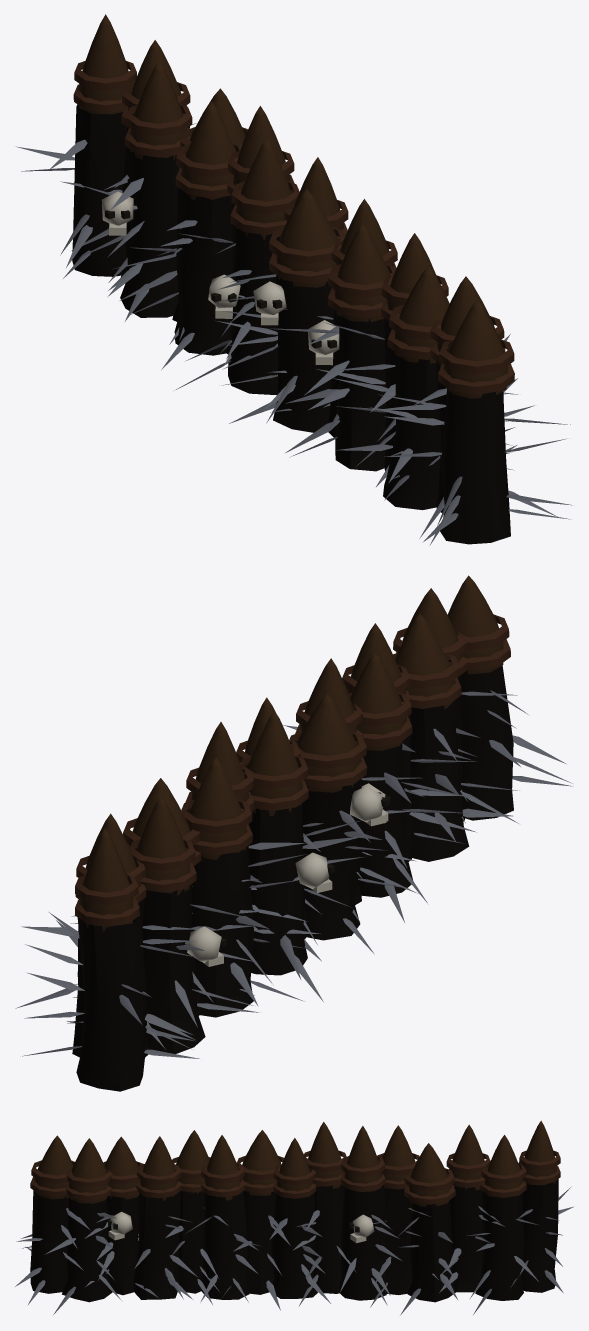
Rendered from TarPRWall03.glb.
3 renders of one model, top to bottom at view 1: azimuth 30°, elevation 25°; view 2: azimuth 150°, elevation 25°; view 3: azimuth 270°, elevation 25°, orthographic. The views are drawn at different scales.
Parts seen in each view (by area): view 1: pal_body; view 2: pal_body; view 3: pal_body.
Boxes of the visible parts, box(x1,y1,x2,y2) form: pal_body: box(16, 14, 572, 545); pal_body: box(15, 575, 573, 1091); pal_body: box(15, 1120, 573, 1315).
Bounding box in the file's own units: 3.35 × 4.47 × 13.23.
